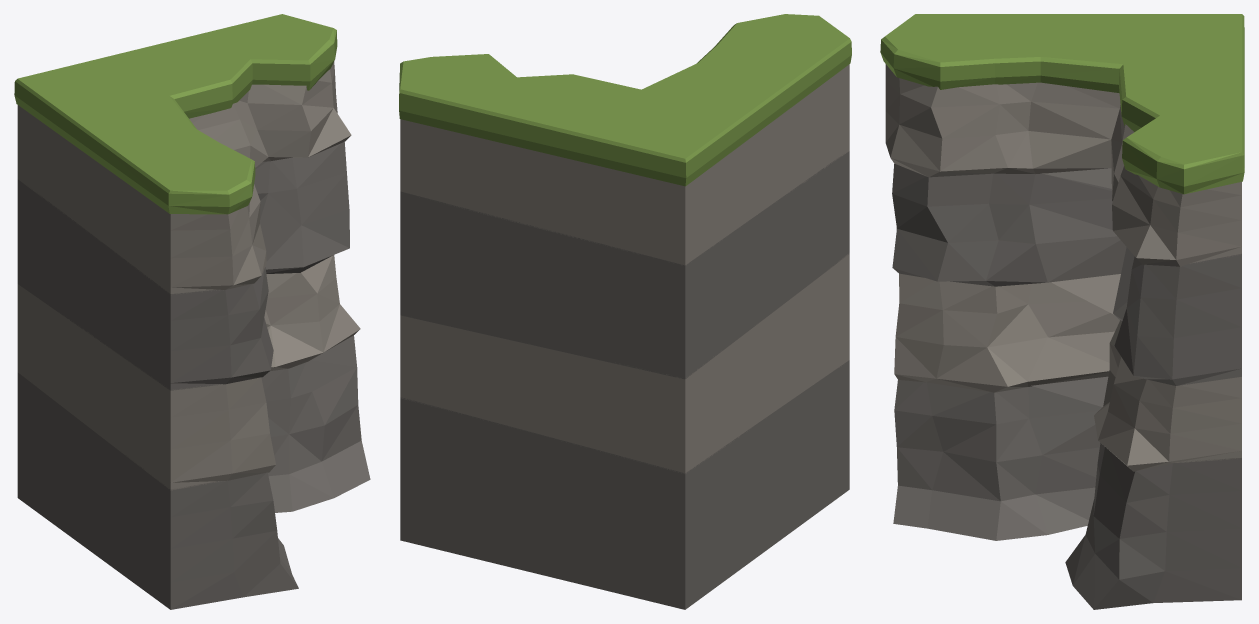
Rendered from ENV_Cliff_Corner.fbx.
3 views of the same model, side by side, from view 1: azimuth 30°, elevation 25°; view 2: azimuth 150°, elevation 25°; view 3: azimuth 270°, elevation 25° (orthographic). The views are drawn at different scales.
Visible parts, largest first — view 1: Rock, Strata, Grass; view 2: Rock, Strata, Grass; view 3: Rock, Strata, Grass.
Boxes of the visible parts, left/top/right/bottom form: Rock: left=17, top=142, right=370, bottom=609; Strata: left=17, top=61, right=360, bottom=490; Grass: left=14, top=14, right=337, bottom=214; Rock: left=400, top=151, right=849, bottom=609; Strata: left=400, top=64, right=849, bottom=473; Grass: left=399, top=14, right=851, bottom=186; Rock: left=892, top=163, right=1241, bottom=609; Strata: left=885, top=64, right=1241, bottom=471; Grass: left=880, top=14, right=1244, bottom=194.
Bounding box in the file's own units: 27.94 × 38 × 27.99.
